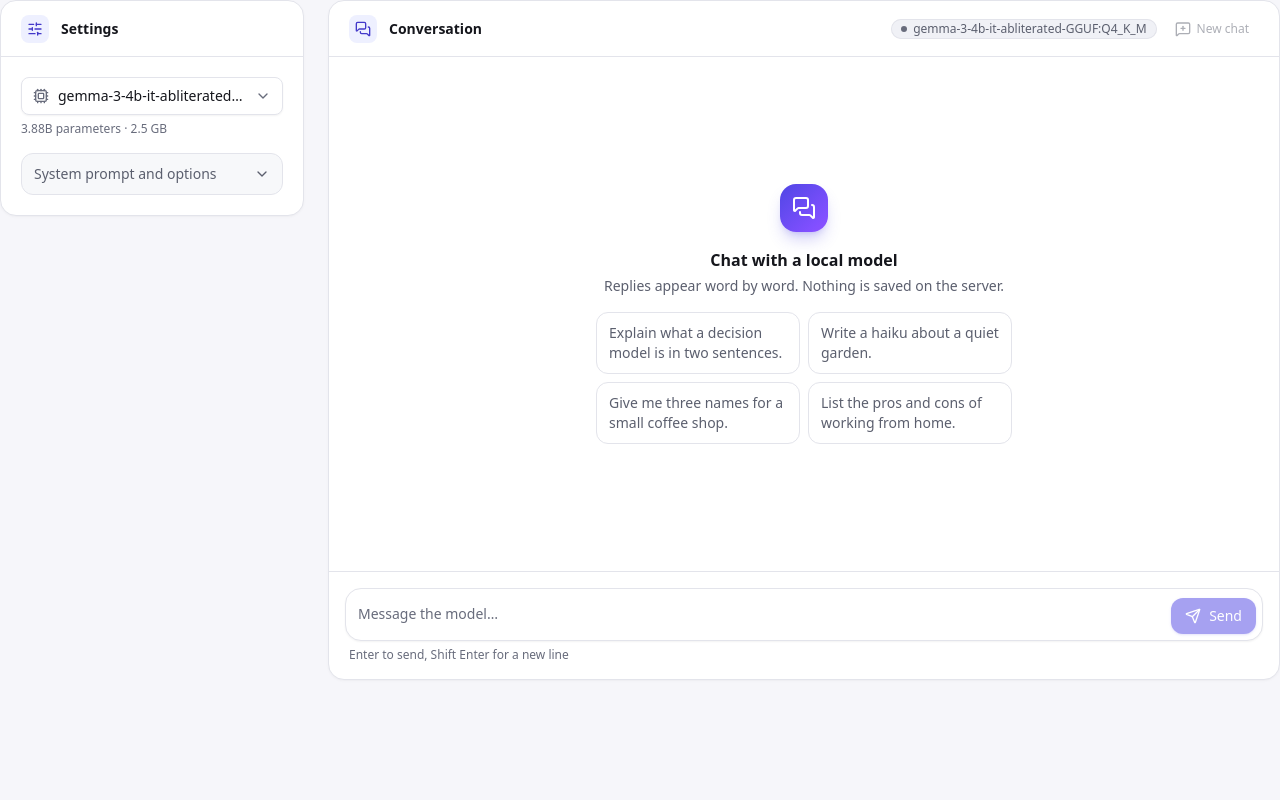
Test case: ChatPage › streams the reply word by word, waiting before the first, then shows its stats
The image size is (1280, 800).
Later steps or results of the test are not shown.
Check: the dropdown named "Model" shows "gemma-3-4b-it-abliterated-GGUF:Q4_K_M", box [21,77,283,115]
Type "Name a quiet garden" into the text box labelled "Message".
click(761, 615); type("Name a quiet garden")  # box [358,595,1163,634]
Then press Enter
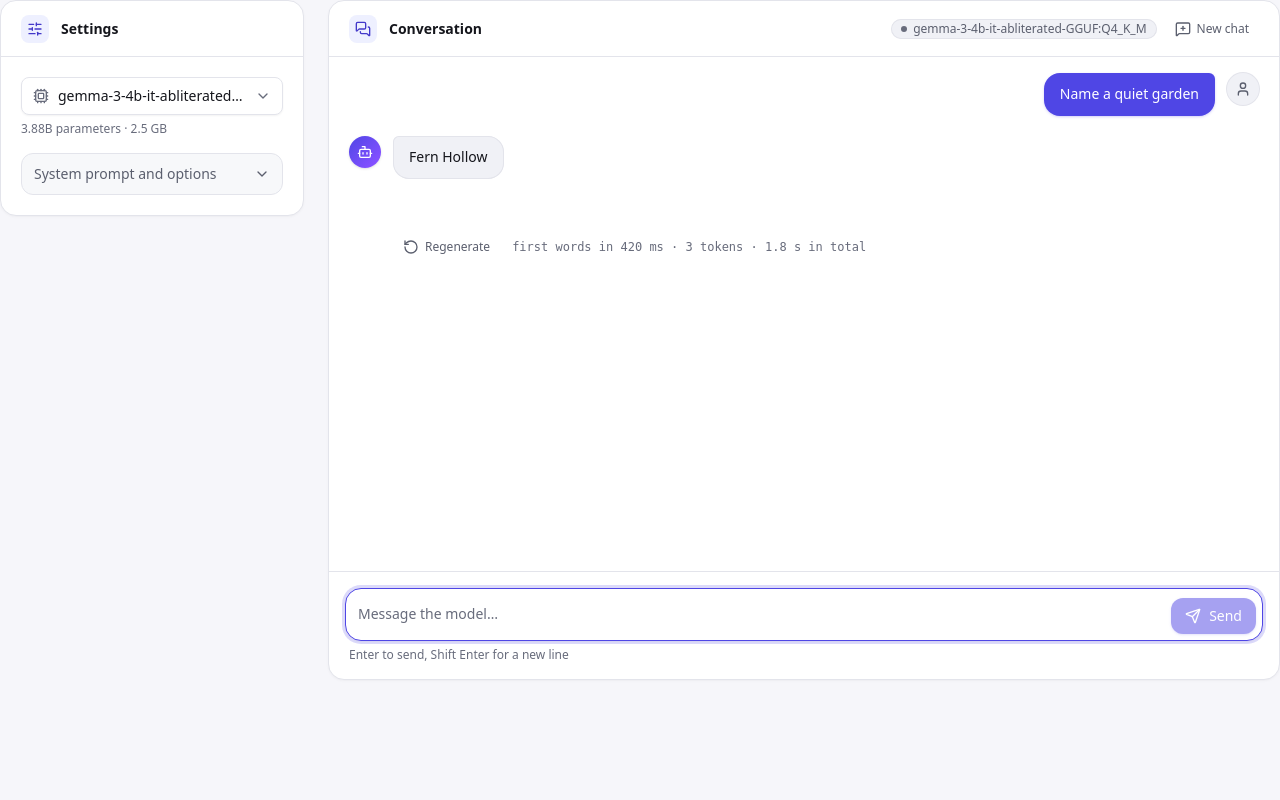
Check: the text "Fern" reads "Fern Hollow", box [409,147,488,166]
Check: the text "first words in 420 ms · 3 tokens · 1.8 s in total" is shown, box [512,238,866,254]
Check: the button "Regenerate" is shown, box [393,230,500,262]
